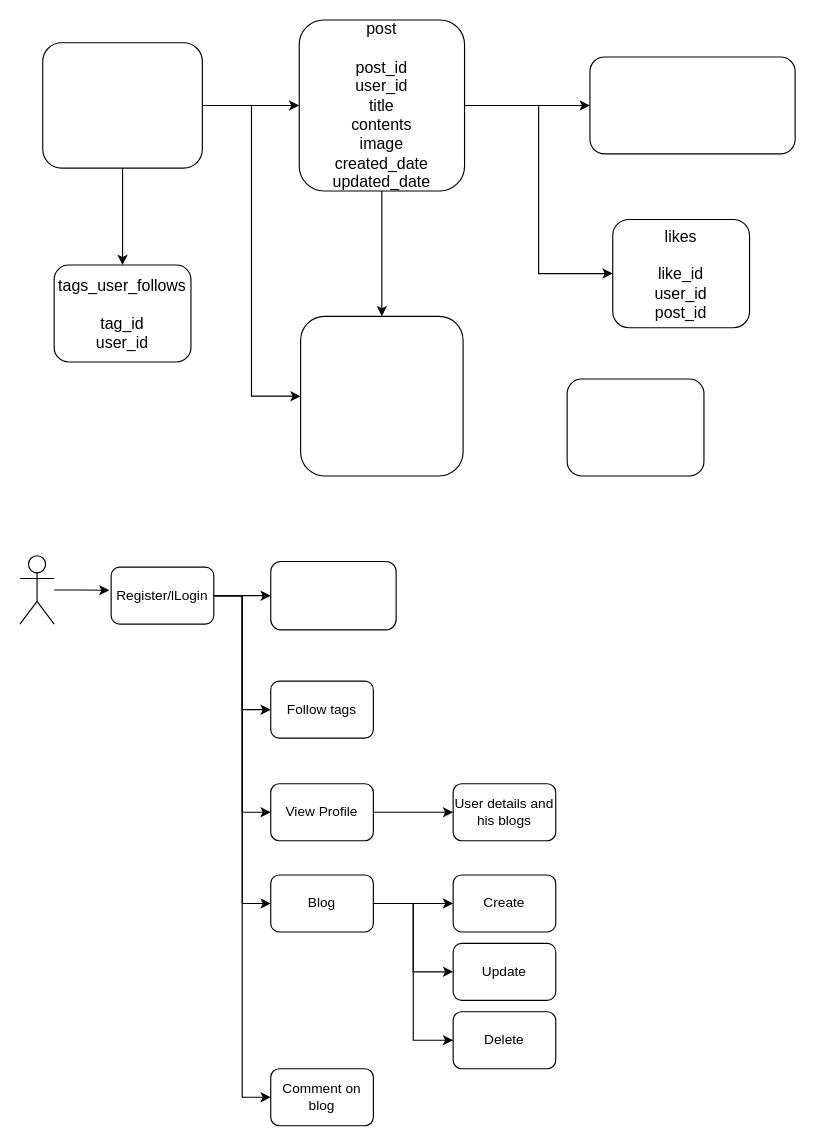
This 815x1146 diagram has some shape labels left out. Here are the shapes that lost their labels. From the top down, the box of each, then its label:
(42, 42, 202, 168): user user_id user_name email password
(589, 56, 795, 154): tags_associated_with_post tag_id post_id
(299, 315, 463, 476): comment comment_id post_id user_id contents created_date updated_date
(566, 378, 704, 476): tags tag_id tag_name
(19, 555, 54, 624): User
(270, 560, 396, 630): homepage(list blogs for tags that he follows)
